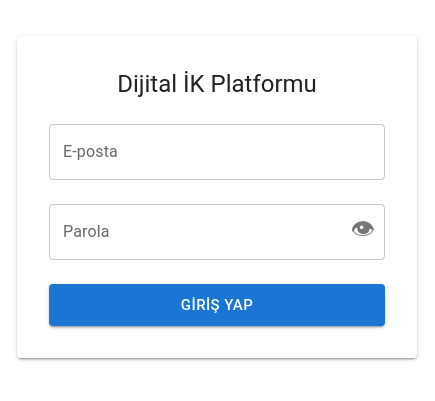
Test: LoginPage › boş alanlarla submit edilince validasyon hatalarını gösterir
Click the button "Giriş Yap" at (217, 305), box [49, 284, 385, 326]
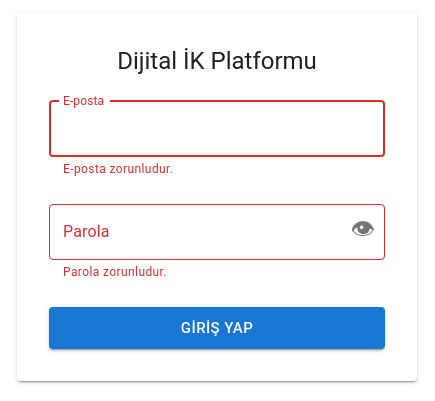
Now the text "E-posta zorunludur." is shown, box [63, 162, 173, 176]
Now the text "Parola zorunludur." is shown, box [63, 265, 167, 279]
